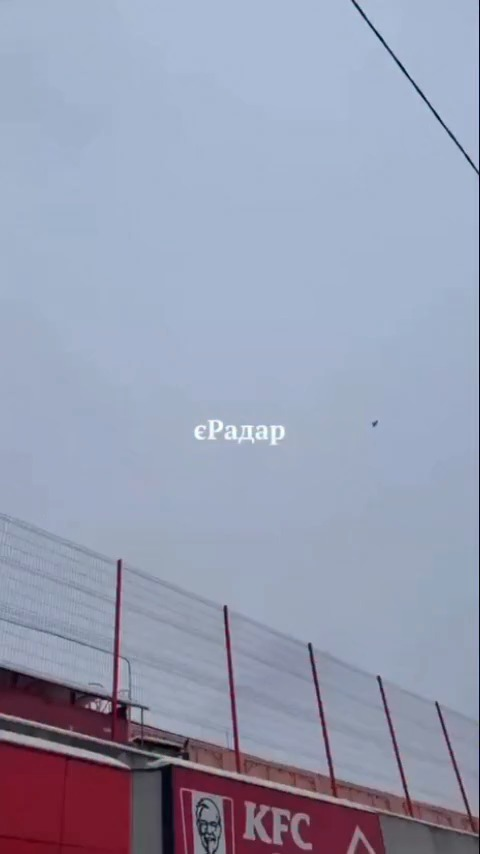shahed: (368, 420, 383, 429)
